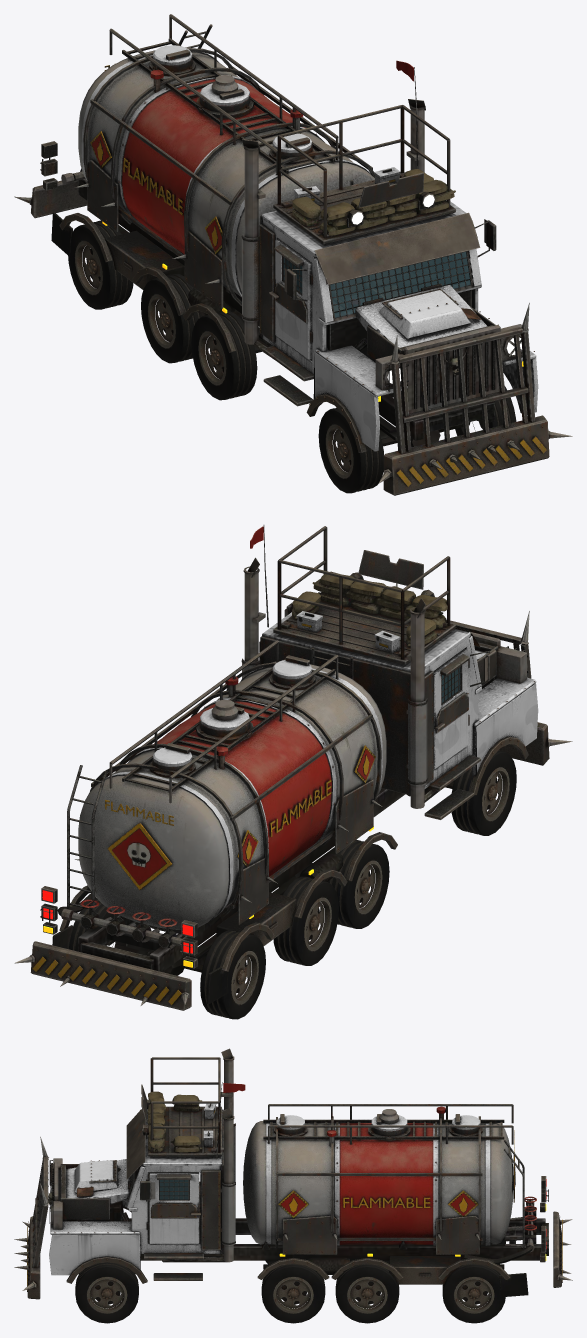
File: e_tanker.glb
3 views of the same model, one above another, from view 1: azimuth 30°, elevation 25°; view 2: azimuth 150°, elevation 25°; view 3: azimuth 270°, elevation 25° (orthographic). The views are drawn at different scales.
Parts seen in each view (by area): view 1: body, panel_bumper_F, panel_hood, panel_fender_R, wheel_MR, wheel_FR, wheel_RR, wheel_RR2, panel_stack_R, panel_door_R, panel_armor_R, panel_bumper_R (+2 smaller); view 2: body, panel_bumper_R, panel_fender_R, wheel_RR2, wheel_RR, wheel_FR, panel_stack_R, wheel_MR, panel_door_R, panel_bumper_F, panel_stack_L, panel_armor_R; view 3: body, panel_fender_L, panel_hood, wheel_FL, panel_door_L, wheel_ML, wheel_RL, wheel_RL2, panel_armor_L, panel_bumper_F, panel_stack_L, panel_bumper_R (+1 smaller).
Boxes of the visible parts, x1,y1,x2,y2 form: body: [40, 14, 523, 448]; panel_bumper_F: [378, 303, 572, 495]; panel_hood: [355, 283, 495, 359]; panel_fender_R: [306, 345, 407, 452]; wheel_MR: [191, 310, 257, 400]; wheel_FR: [318, 407, 383, 493]; wheel_RR: [141, 274, 202, 363]; wheel_RR2: [68, 220, 133, 309]; panel_stack_R: [241, 139, 265, 344]; panel_door_R: [269, 239, 312, 359]; panel_armor_R: [259, 224, 307, 342]; panel_bumper_R: [14, 180, 87, 218]; body: [40, 525, 528, 1004]; panel_bumper_R: [14, 941, 191, 1010]; panel_fender_R: [469, 677, 538, 795]; wheel_RR2: [200, 930, 265, 1019]; wheel_RR: [273, 876, 338, 965]; wheel_FR: [451, 750, 516, 835]; panel_stack_R: [406, 598, 427, 808]; wheel_MR: [327, 839, 389, 928]; panel_door_R: [433, 649, 496, 769]; panel_bumper_F: [395, 583, 572, 765]; panel_stack_L: [241, 557, 265, 678]; panel_armor_R: [424, 671, 468, 785]; body: [48, 1057, 548, 1297]; panel_fender_L: [49, 1221, 147, 1283]; panel_hood: [58, 1159, 130, 1219]; wheel_FL: [75, 1262, 138, 1323]; panel_door_L: [140, 1173, 200, 1243]; wheel_ML: [261, 1263, 325, 1323]; wheel_RL: [335, 1263, 399, 1323]; wheel_RL2: [442, 1263, 505, 1323]; panel_armor_L: [151, 1170, 220, 1250]; panel_bumper_F: [14, 1136, 48, 1299]; panel_stack_L: [220, 1108, 235, 1262]; panel_bumper_R: [553, 1211, 572, 1287].
Size of the model in its own units: 3.13 by 4.85 by 10.2.
14 materials, 10 textured.
